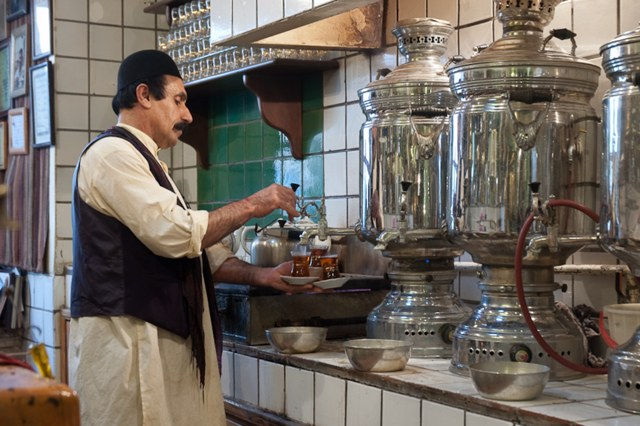bowl: (468, 361, 552, 400), (343, 339, 415, 372), (263, 326, 330, 355)
